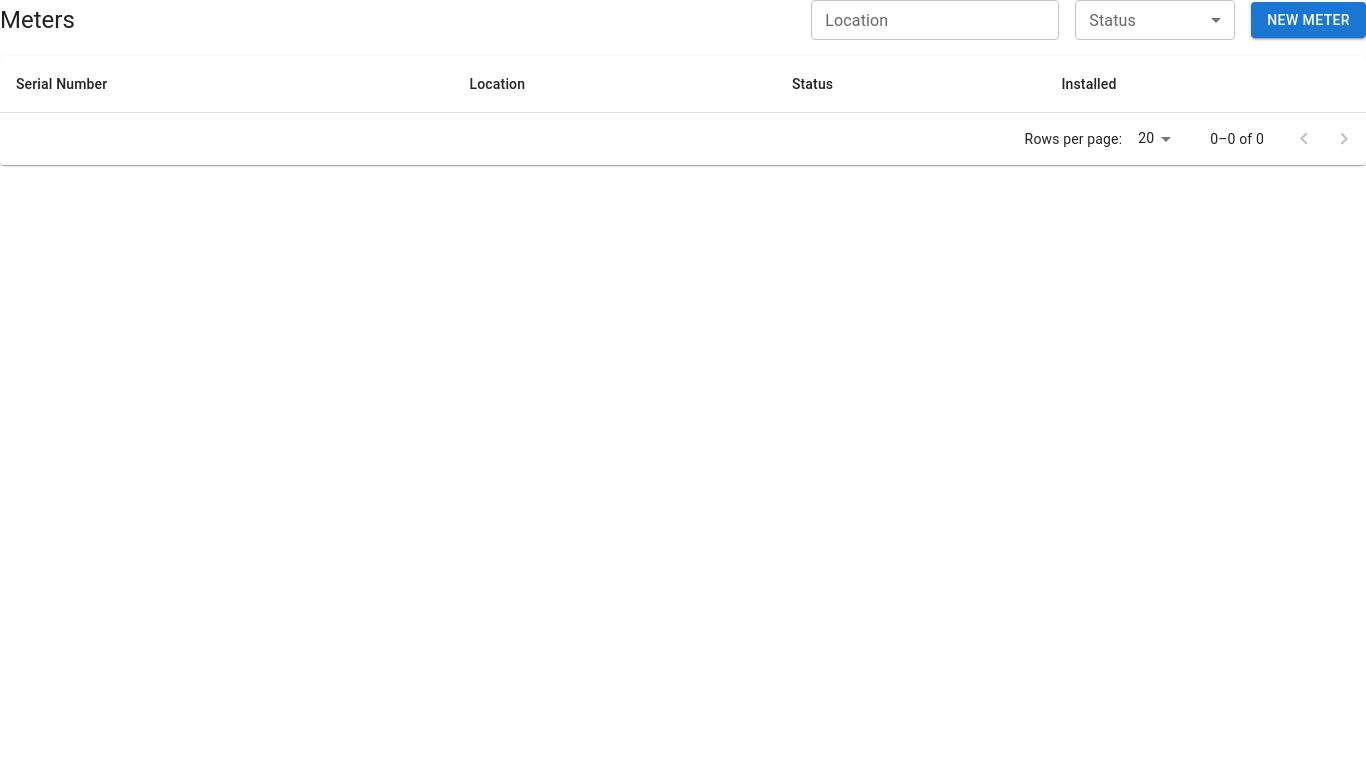
Test case: MetersPage › disables Create until the required fields are filled in
Click the button "New Meter" at (1309, 20), box x1=1251 y1=2 x2=1365 y2=38
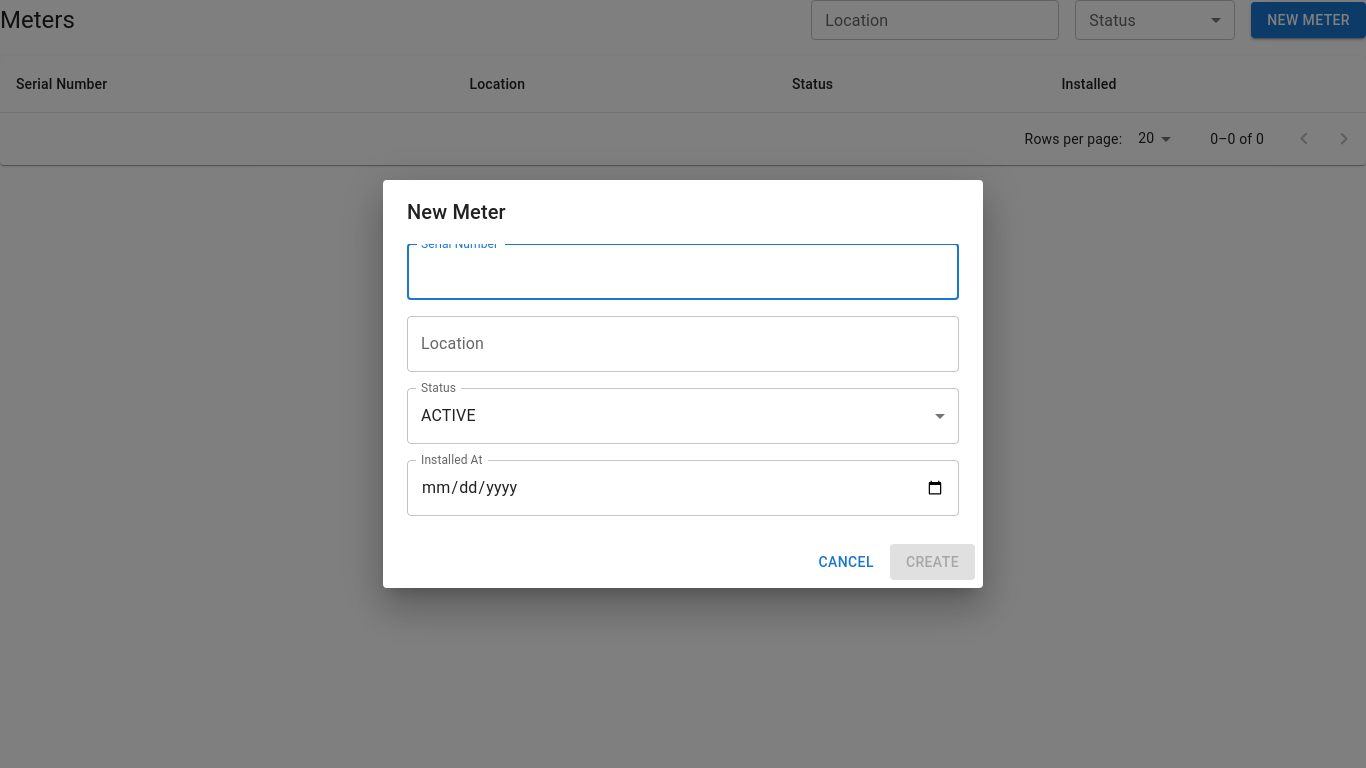
Expected: the button "Create" is disabled, x1=890 y1=544 x2=975 y2=580
Type "SN-NEW" into the field labelled "Serial Number" at (683, 272), box x1=407 y1=244 x2=959 y2=300
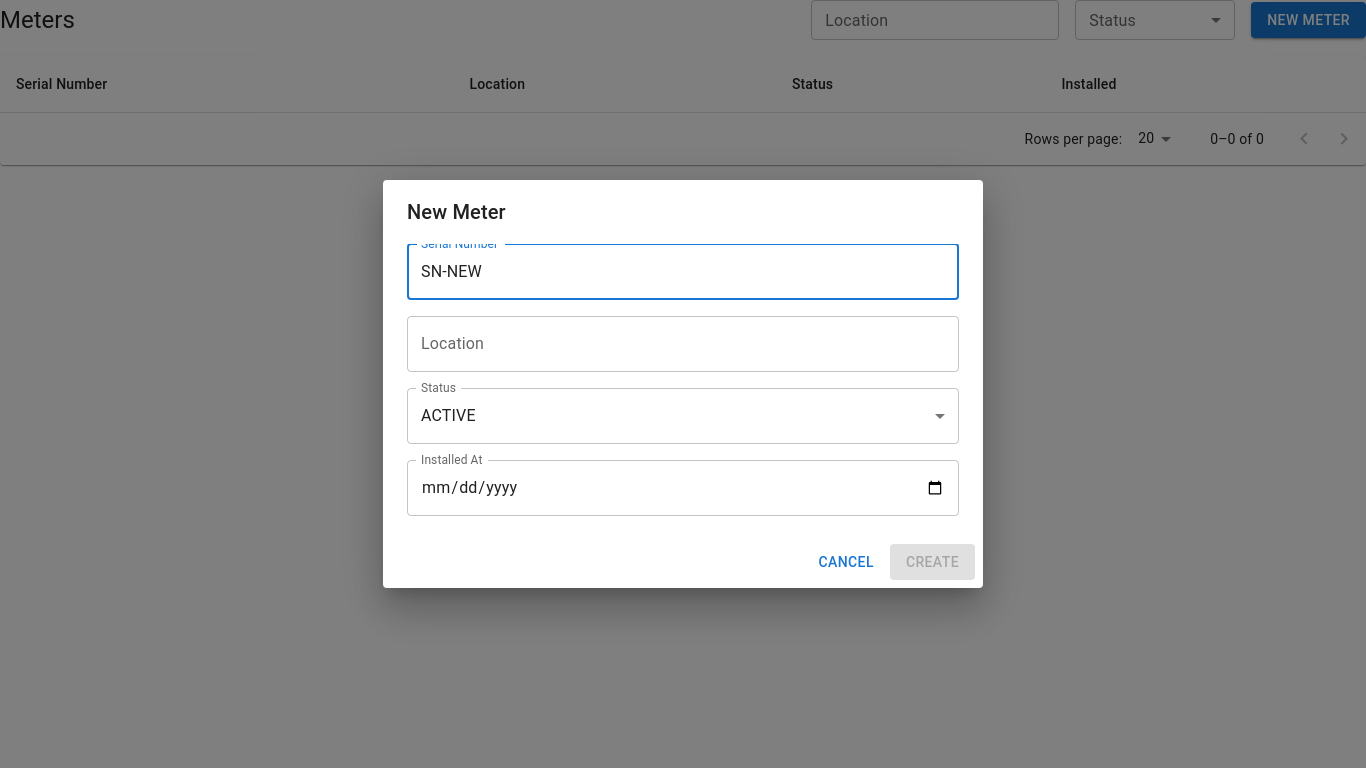
Type "Elm St" into the field labelled "Location" at (683, 344), box x1=407 y1=316 x2=959 y2=372
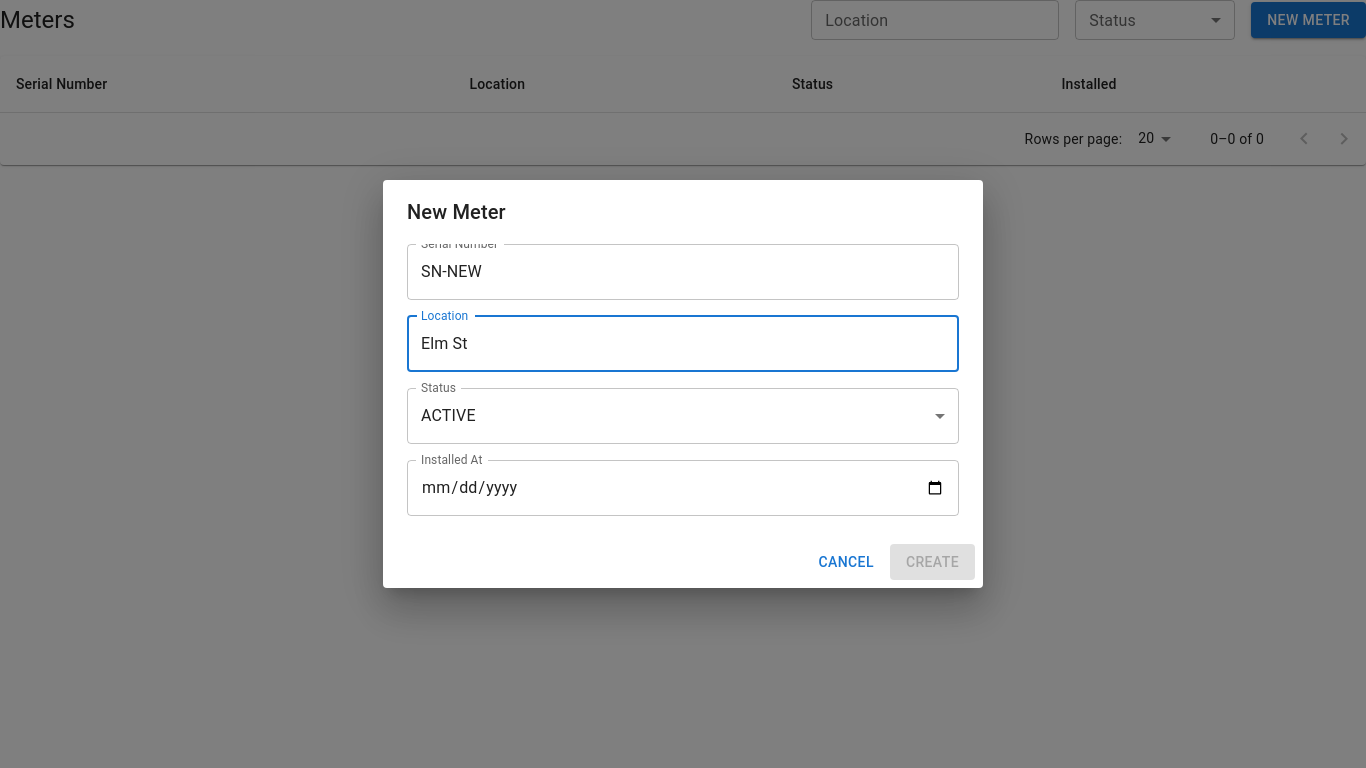
Type "2026-03-01" into the date field labelled "Installed At" at (683, 488), box x1=407 y1=460 x2=959 y2=516
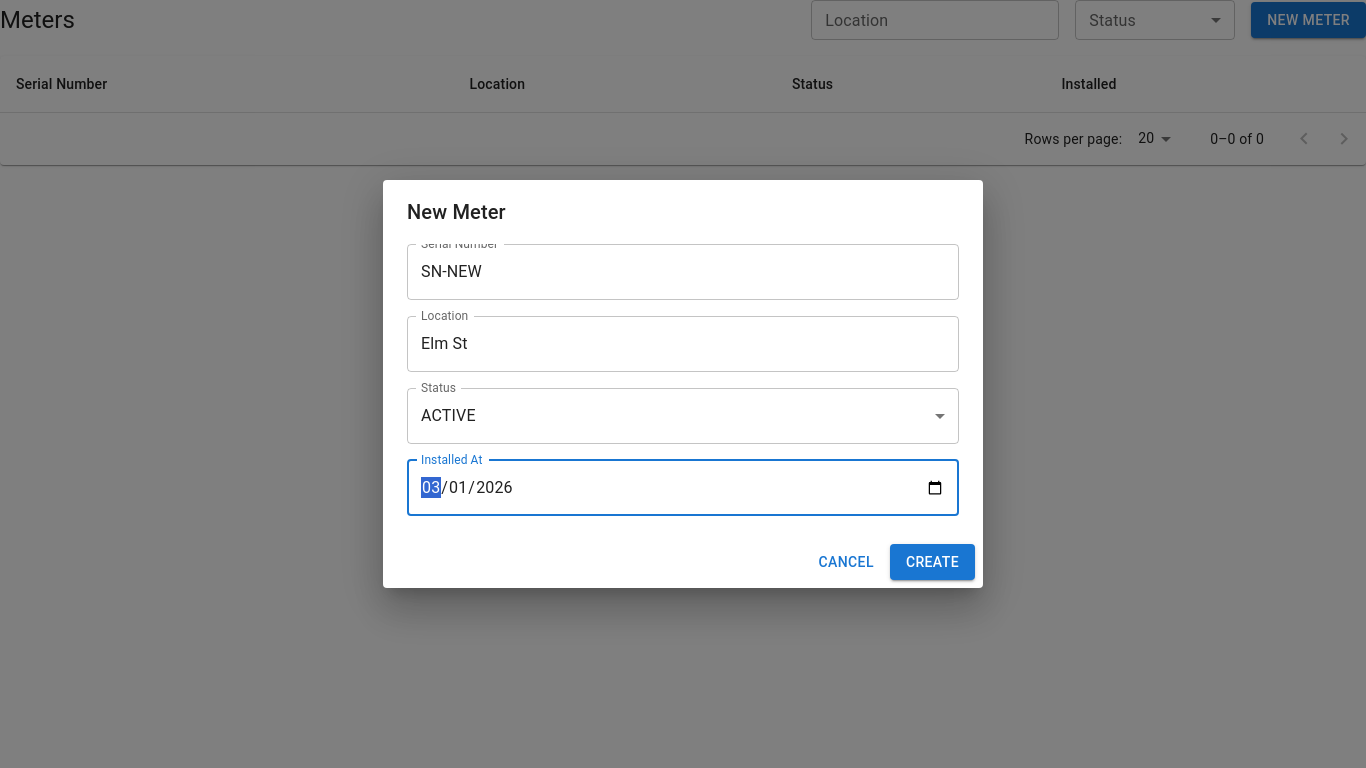
Expected: the button "Create" is enabled, x1=890 y1=544 x2=975 y2=580
